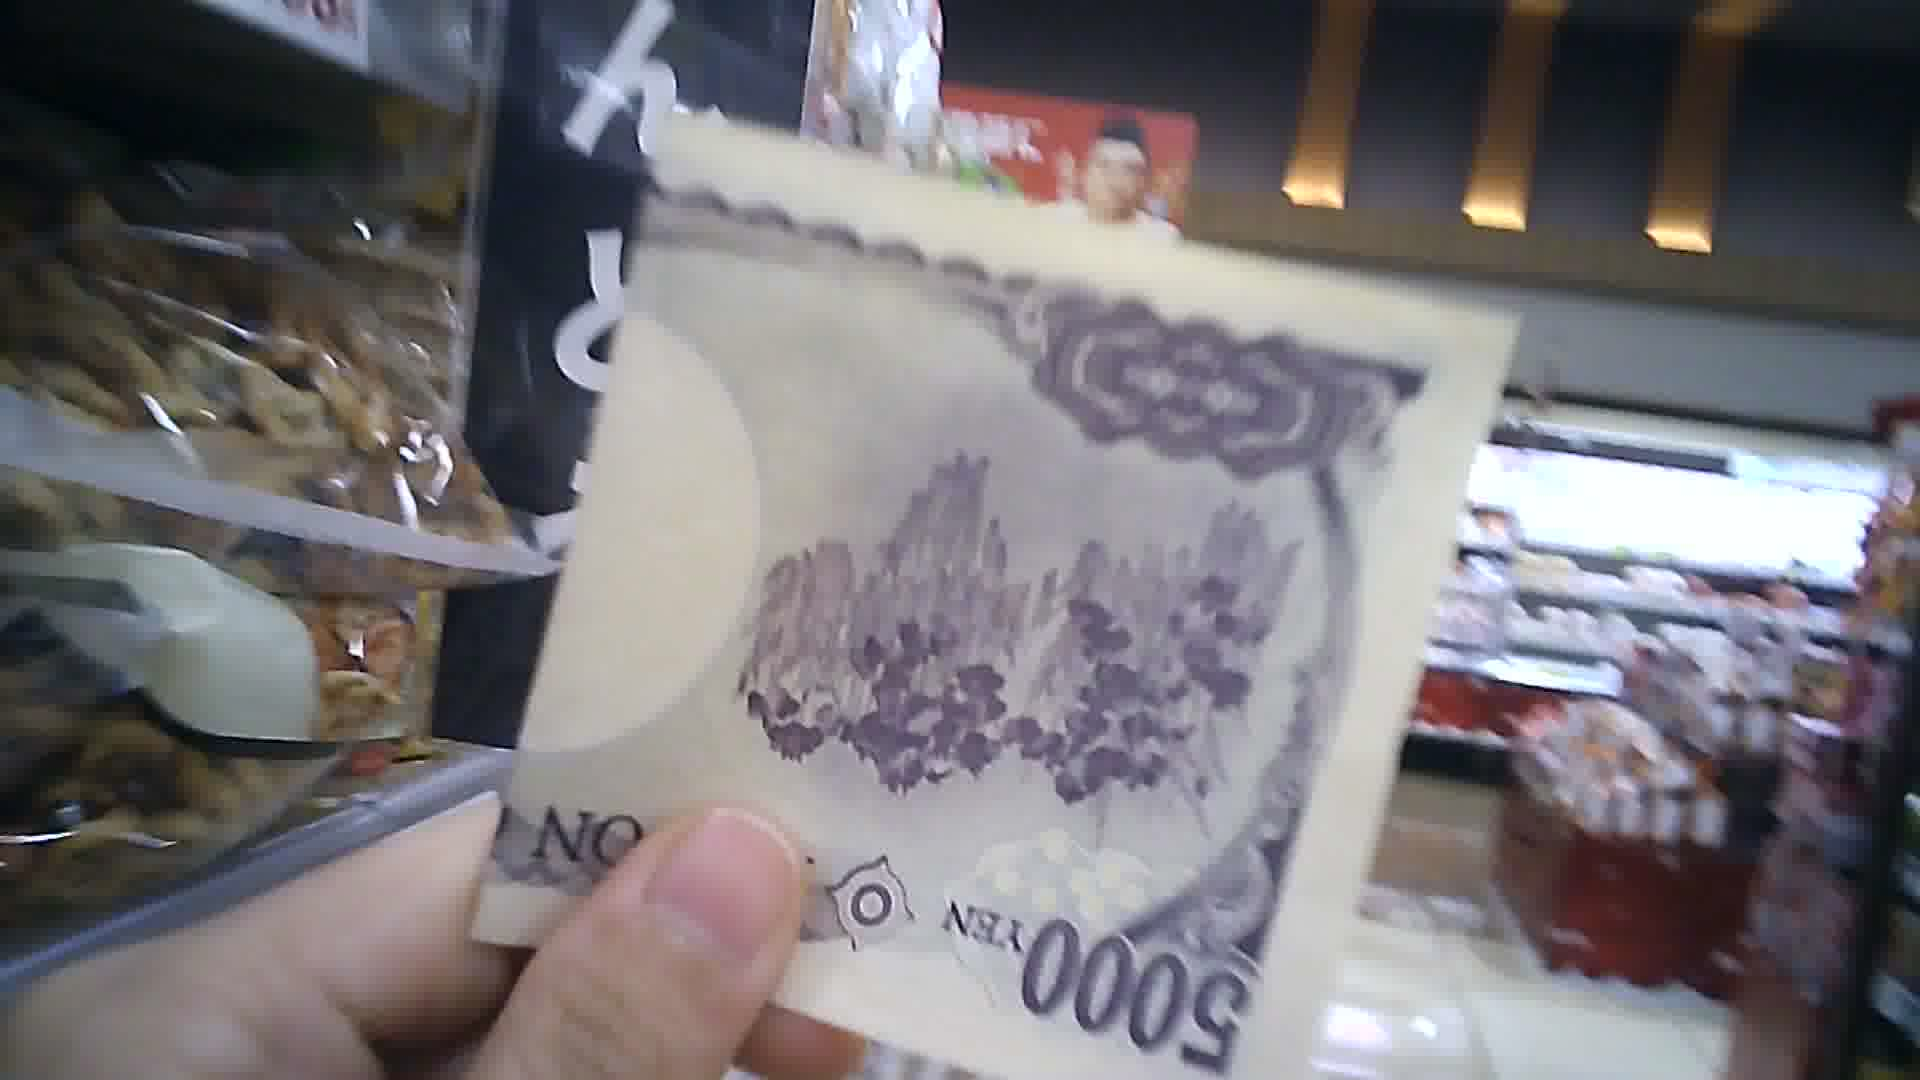5,000 Yen: (481, 98, 1495, 1079)
